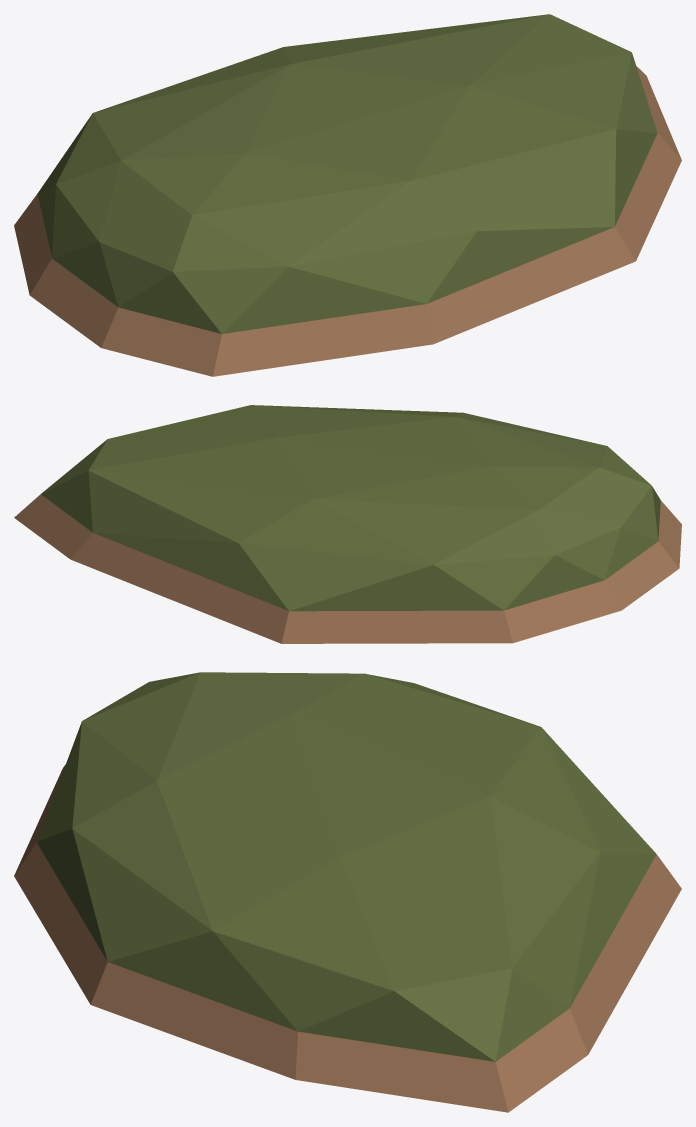
Rendered from 2_2 Dirt_1.fbx.
3 views of the same model, one above another, from view 1: azimuth 30°, elevation 25°; view 2: azimuth 150°, elevation 25°; view 3: azimuth 270°, elevation 25° (orthographic). The views are drawn at different scales.
Visible parts, largest first — view 1: Dirt_1; view 2: Dirt_1; view 3: Dirt_1.
Boxes of the visible parts, box(x1,y1,x2,y2) form: Dirt_1: box(14, 14, 681, 376); Dirt_1: box(14, 405, 681, 643); Dirt_1: box(14, 672, 681, 1112).
Size of the model in its own units: 2347 by 374 by 1772.
